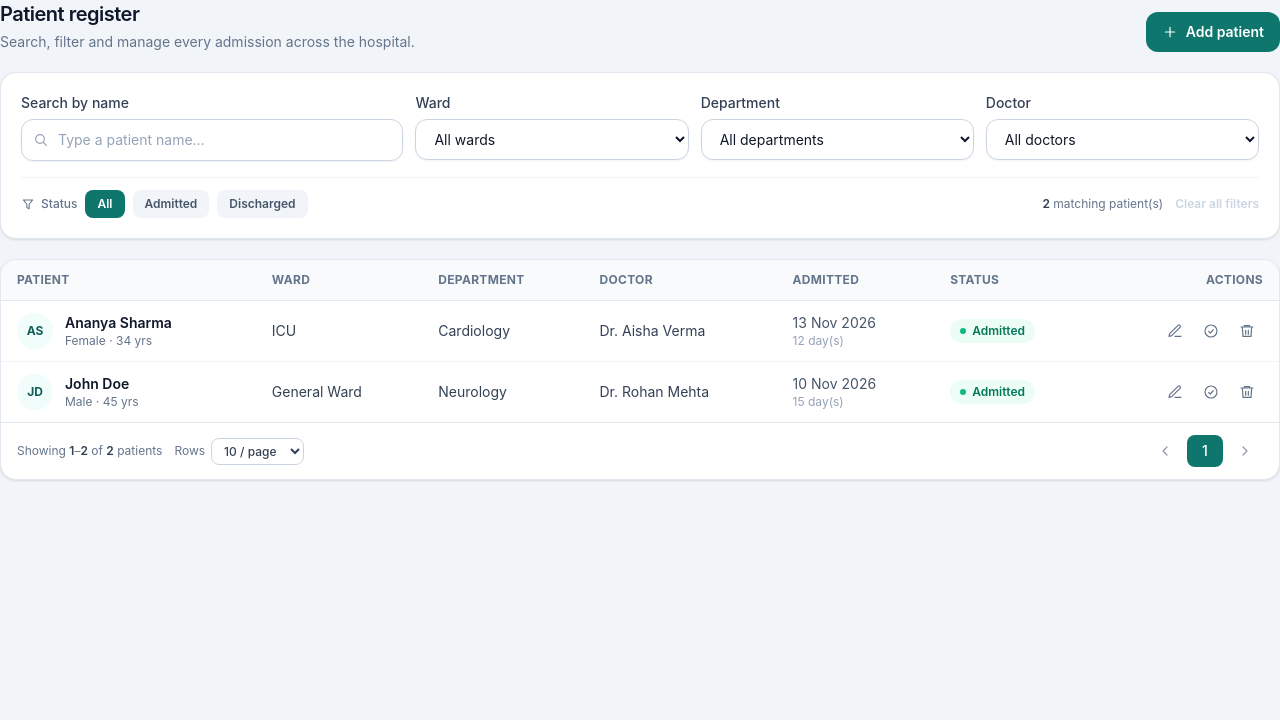
PatientsPage › discharges a patient only after confirmation
Check: the text "John Doe" is shown, box [65, 374, 139, 394]
Click the button named "Discharge John Doe".
click(1211, 392)  # box [1195, 376, 1227, 408]
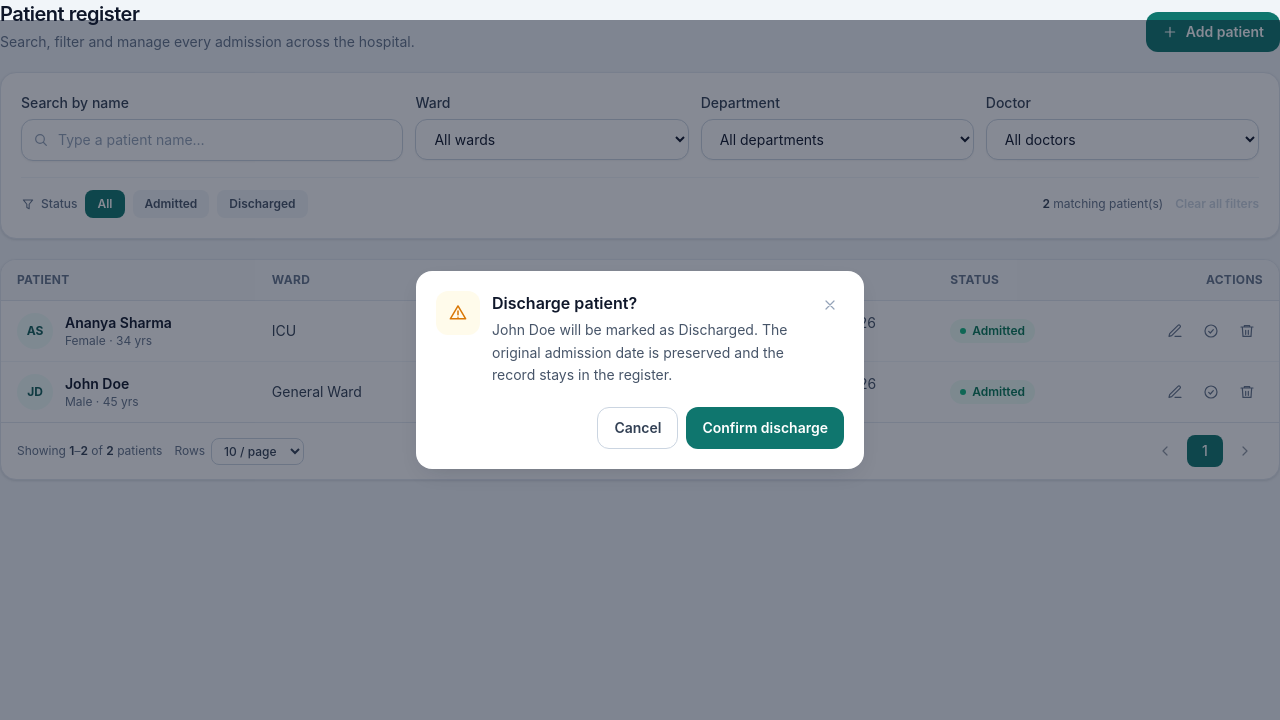
Check: the text "will be marked as Discharged" is shown, box [492, 321, 787, 383]
Click the button "Confirm discharge".
click(765, 428)  # box [686, 407, 844, 449]
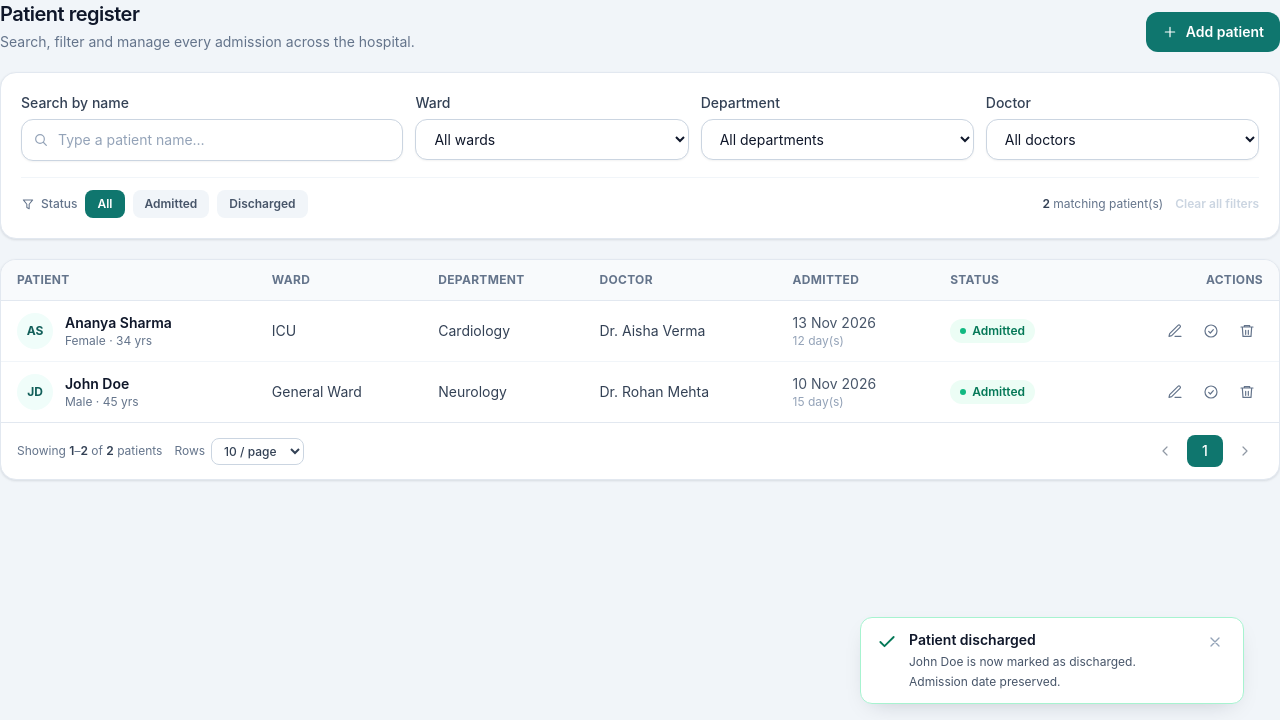
Check: the text "Patient discharged" is shown, box [909, 631, 1036, 648]
